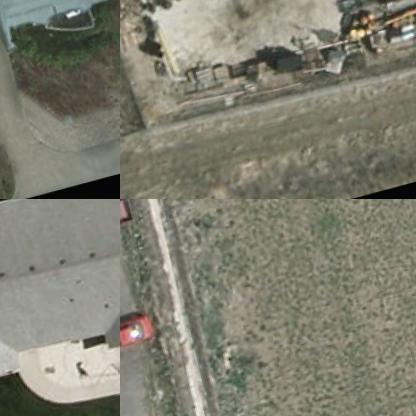car: (120, 313, 157, 360)
